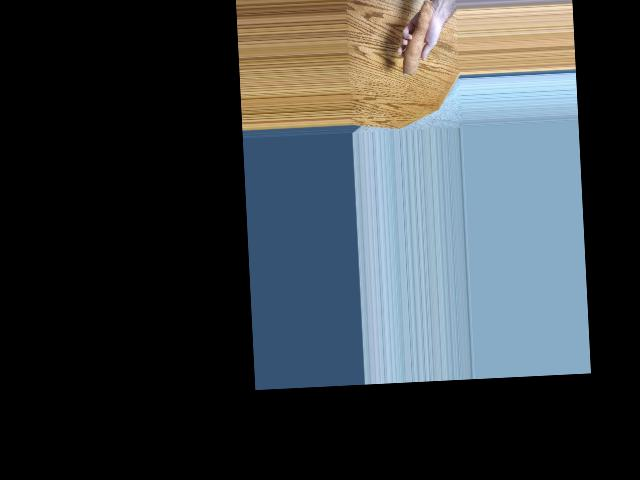sweet_potato: (397, 1, 437, 75)
